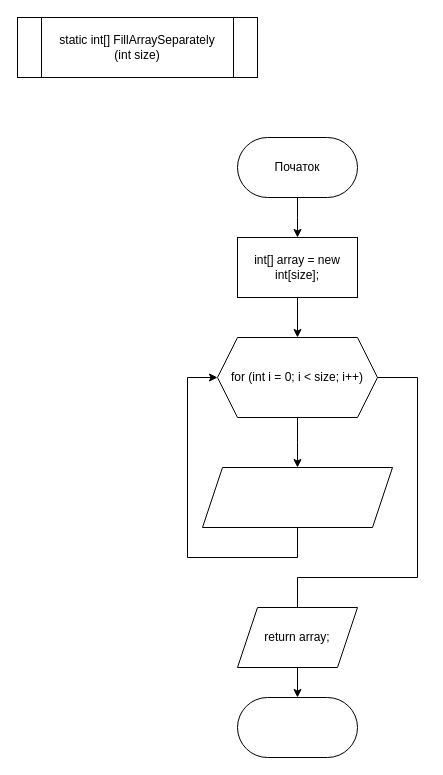
This 443x775 diagram has some shape labels left out. The centre of each missing label's shape, as x and y in pixels:
array[i] = int.Parse(Console.ReadLine());: point 297,497
Кінець: point 297,727
